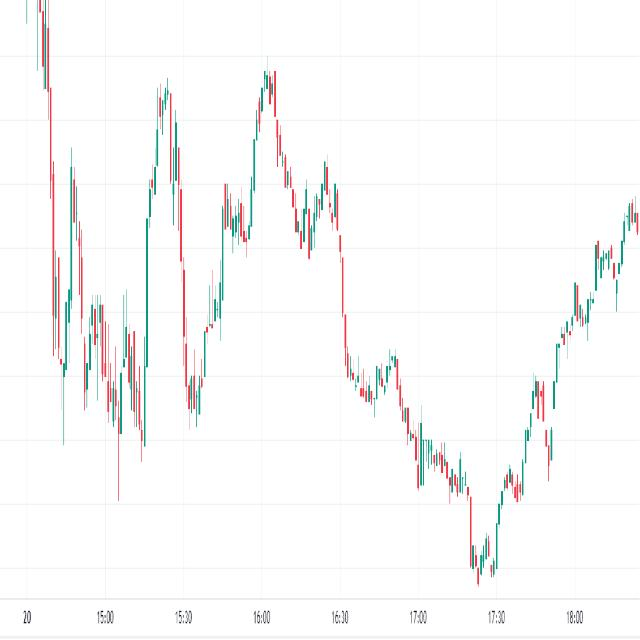Head-Shoulders: (209, 47, 354, 376), (397, 362, 536, 596)
